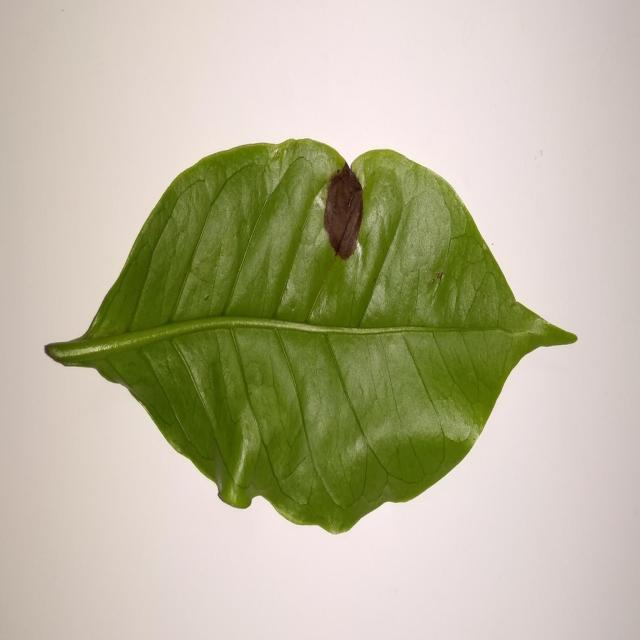Enfermedad-Antracnosis: (44, 139, 578, 538)
